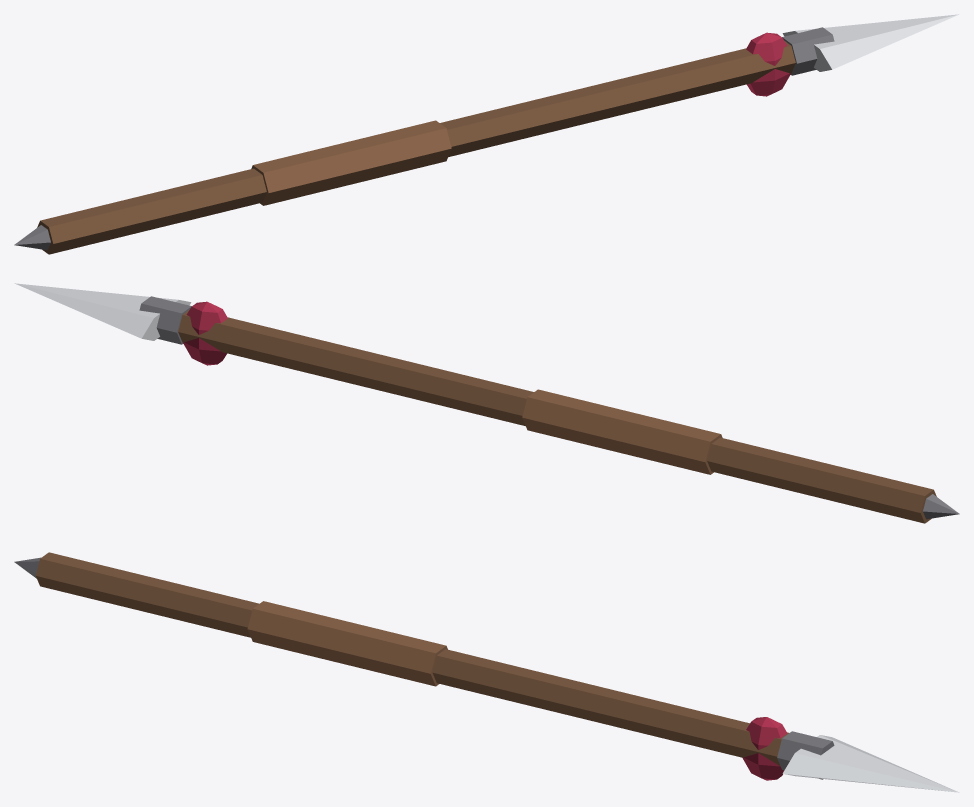
Rendered from long_spear.glb.
3 views of the same model, one above another, from view 1: azimuth 30°, elevation 25°; view 2: azimuth 150°, elevation 25°; view 3: azimuth 330°, elevation 25° (orthographic).
Visible parts, largest first — view 1: long_spear; view 2: long_spear; view 3: long_spear.
Part boxes in pixels (x1,y1,x2,y2): long_spear: [14, 14, 959, 254]; long_spear: [14, 283, 959, 523]; long_spear: [14, 552, 959, 792].
Size of the model in its own units: 0.9 by 0.0581 by 0.0823.
